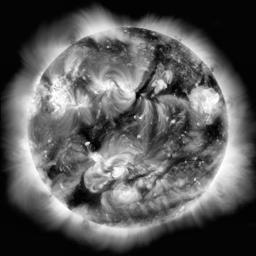solar flares: (89, 153, 121, 184), (189, 88, 219, 114), (46, 84, 67, 118), (106, 185, 138, 203), (111, 79, 133, 104), (86, 75, 109, 95)
sunspots: (72, 181, 100, 208), (78, 123, 103, 147), (167, 79, 185, 100), (206, 122, 221, 147), (133, 27, 153, 45), (116, 112, 133, 128), (155, 45, 167, 66), (172, 153, 190, 166), (111, 42, 123, 58), (47, 168, 57, 180)
